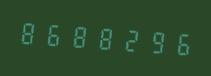eight: (17, 13, 41, 51), (67, 17, 91, 54), (92, 19, 116, 56)
nine: (142, 22, 166, 60)
six: (42, 15, 66, 53), (167, 24, 191, 61)
two: (117, 20, 141, 58)
